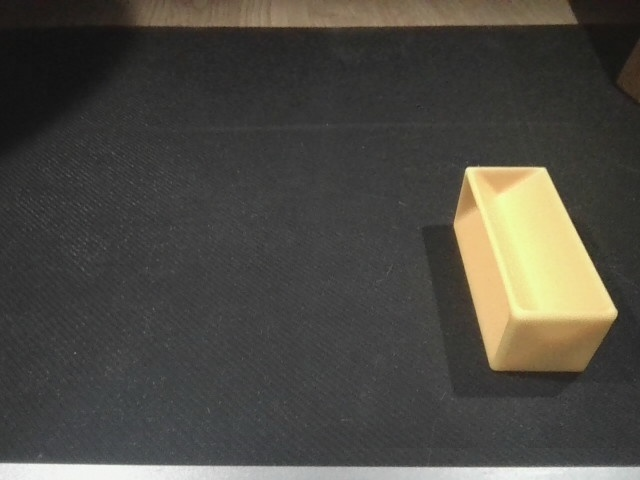YellowSample: (449, 158, 622, 384)
